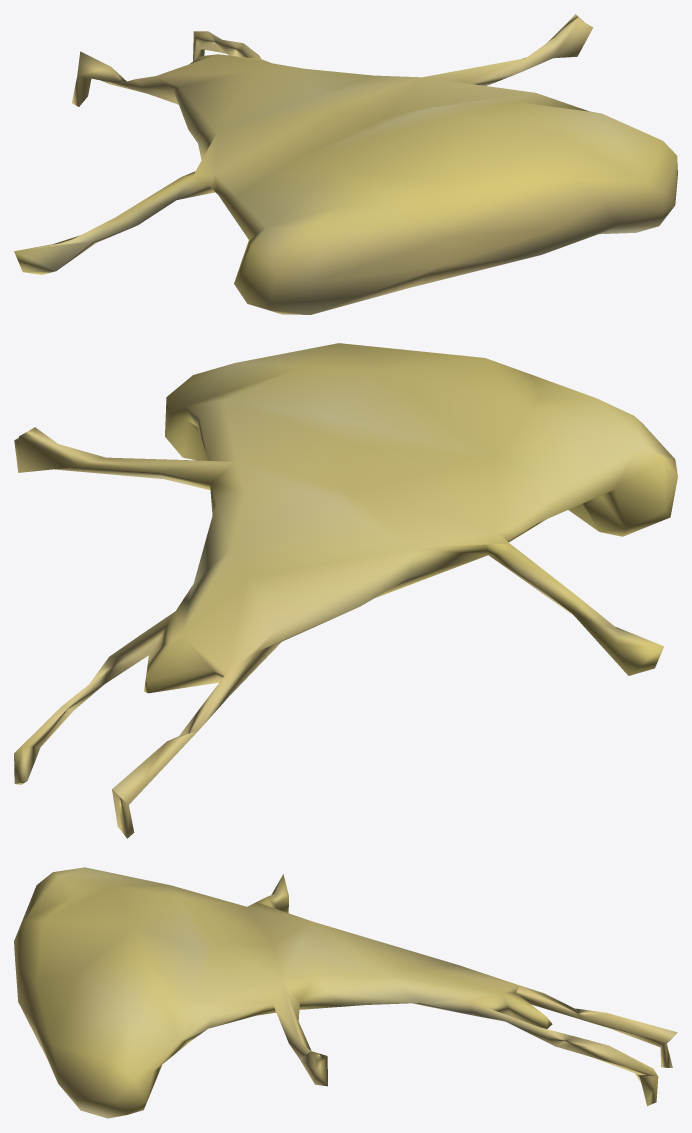
3 renders of one model, top to bottom at view 1: azimuth 30°, elevation 25°; view 2: azimuth 150°, elevation 25°; view 3: azimuth 270°, elevation 25°, orthographic. The views are drawn at different scales.
Parts seen in each view (by area): view 1: LOD 5_12217630209747545319_820756dedd5b3434c8e6bed8ae6a193b; view 2: LOD 5_12217630209747545319_820756dedd5b3434c8e6bed8ae6a193b; view 3: LOD 5_12217630209747545319_820756dedd5b3434c8e6bed8ae6a193b.
Part boxes in pixels (x1,y1,x2,y2): LOD 5_12217630209747545319_820756dedd5b3434c8e6bed8ae6a193b: (14,14,677,314); LOD 5_12217630209747545319_820756dedd5b3434c8e6bed8ae6a193b: (14,343,677,838); LOD 5_12217630209747545319_820756dedd5b3434c8e6bed8ae6a193b: (14,867,677,1118).
Size of the model in its own units: 5.06 by 1.6 by 5.65.
